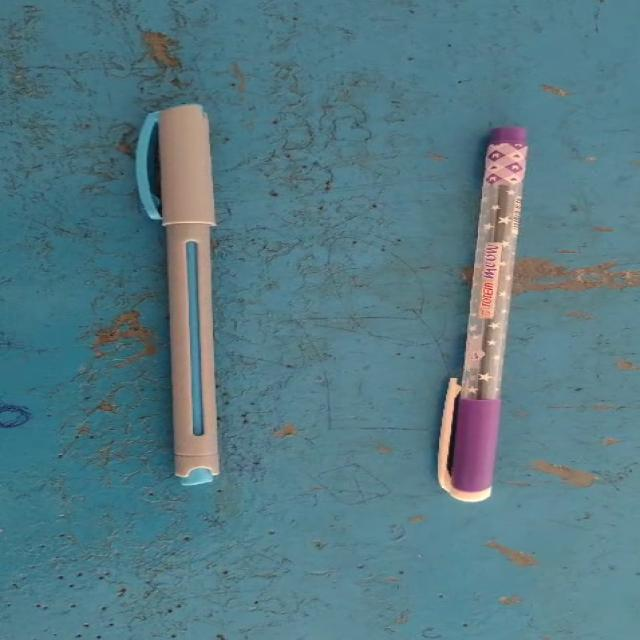pen: (390, 89, 571, 532), (90, 93, 279, 510)
